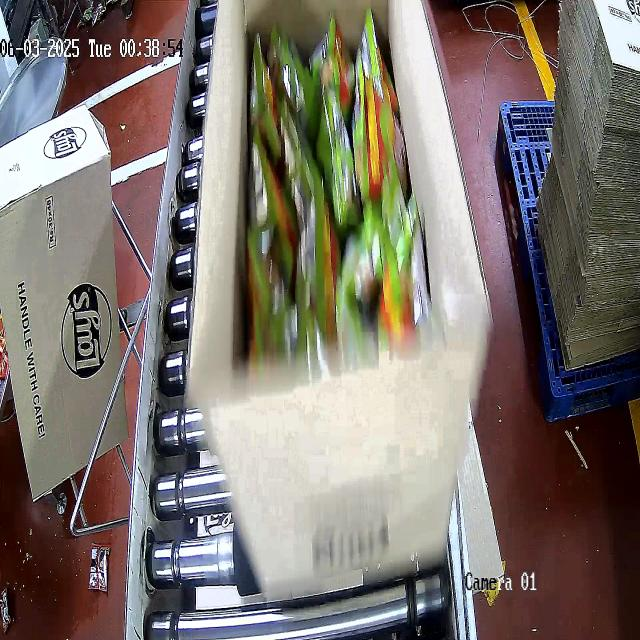YOGURT_HERB: (230, 24, 432, 367)
